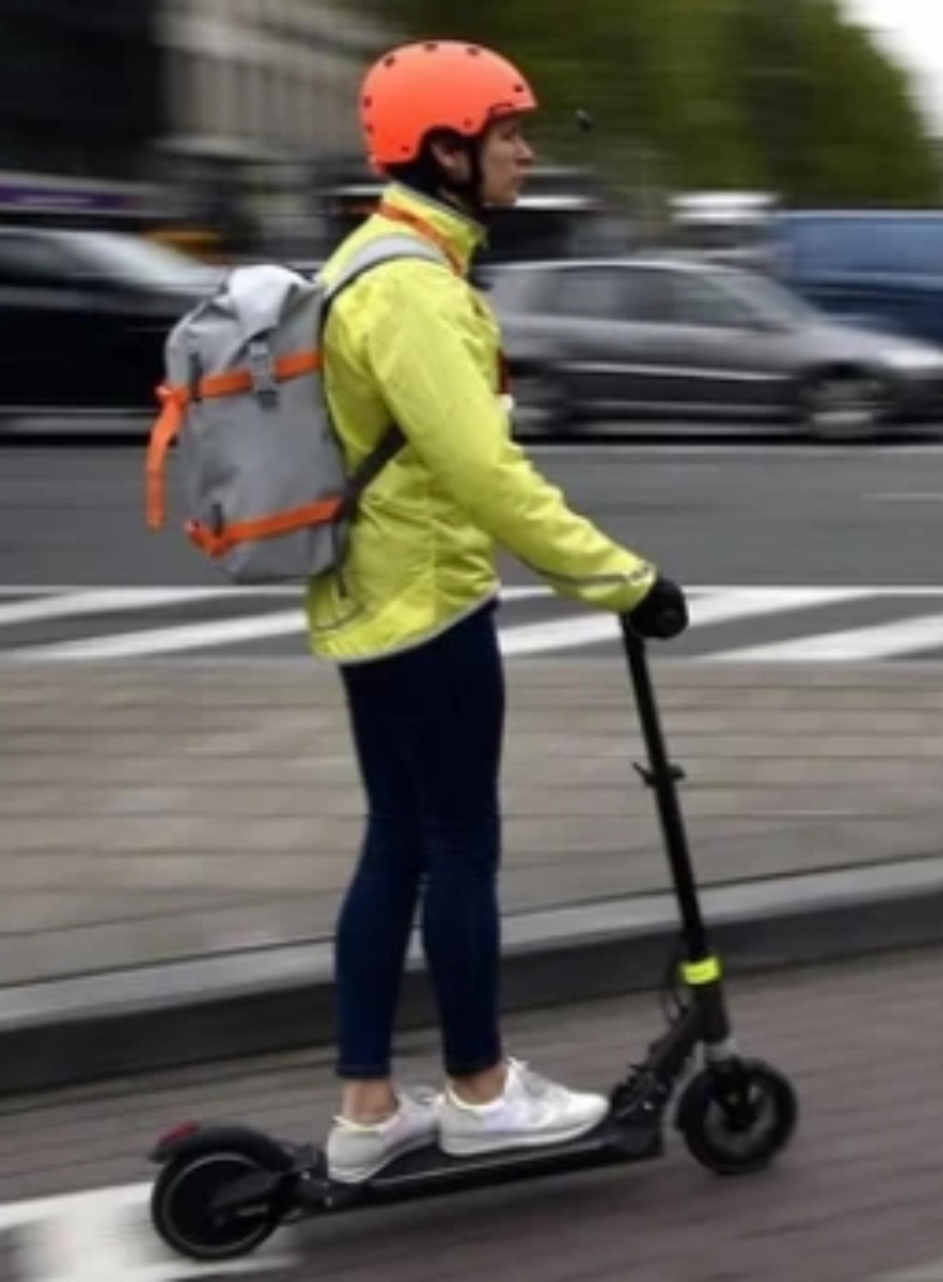helmet: (341, 31, 550, 243)
human: (306, 32, 656, 1178)
kickboard: (142, 1072, 839, 1257)
